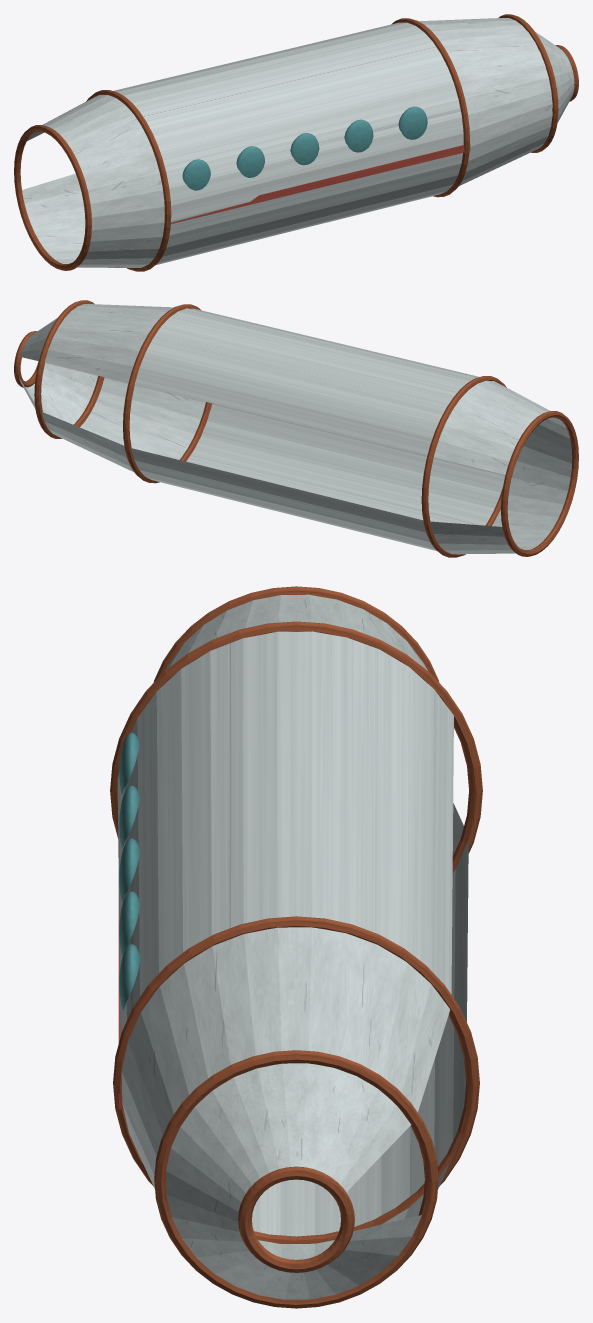
The model's file is WreckedFuselage.glb.
3 views of the same model, one above another, from view 1: azimuth 30°, elevation 25°; view 2: azimuth 150°, elevation 25°; view 3: azimuth 270°, elevation 25° (orthographic). The views are drawn at different scales.
Visible parts, largest first — view 1: Torn fuselage, Airframe rib, Faded fuselage stripe, Airframe rib.001, Airframe rib.002, Airframe rib.003, Porthole.004, Porthole.003, Porthole.002, Porthole.001, Porthole; view 2: Torn fuselage, Airframe rib, Airframe rib.002, Airframe rib.001, Airframe rib.003, Airframe rib.004; view 3: Torn fuselage, Airframe rib.003, Airframe rib.002, Airframe rib.001, Airframe rib.004, Airframe rib, Porthole.004.
Part boxes in pixels (left/top/right/bottom): Torn fuselage: left=22, top=18, right=574, bottom=267; Airframe rib: left=14, top=125, right=91, bottom=270; Faded fuselage stripe: left=171, top=144, right=470, bottom=223; Airframe rib.001: left=86, top=90, right=171, bottom=271; Airframe rib.002: left=391, top=18, right=469, bottom=197; Airframe rib.003: left=498, top=14, right=558, bottom=152; Porthole.004: left=398, top=106, right=427, bottom=139; Porthole.003: left=344, top=119, right=373, bottom=152; Porthole.002: left=290, top=133, right=319, bottom=165; Porthole.001: left=236, top=146, right=264, bottom=177; Porthole: left=182, top=159, right=210, bottom=190; Torn fuselage: left=19, top=304, right=572, bottom=554; Airframe rib: left=501, top=411, right=578, bottom=556; Airframe rib.002: left=123, top=304, right=212, bottom=483; Airframe rib.001: left=421, top=376, right=506, bottom=557; Airframe rib.003: left=34, top=300, right=104, bottom=438; Airframe rib.004: left=14, top=331, right=38, bottom=387; Torn fuselage: left=117, top=594, right=468, bottom=1299; Airframe rib.003: left=154, top=1050, right=438, bottom=1308; Airframe rib.002: left=113, top=916, right=479, bottom=1243; Airframe rib.001: left=110, top=621, right=482, bottom=872; Airframe rib.004: left=238, top=1166, right=354, bottom=1272; Airframe rib: left=153, top=586, right=439, bottom=682; Porthole.004: left=119, top=944, right=140, bottom=1010.
Size of the model in its own units: 8.09 by 2.53 by 2.53.
Materials: 4 (4 with a texture image).
